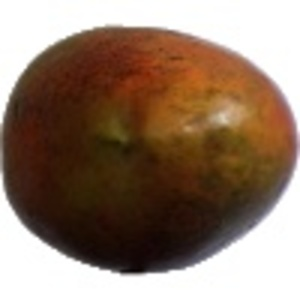manga: (1, 23, 300, 275)
